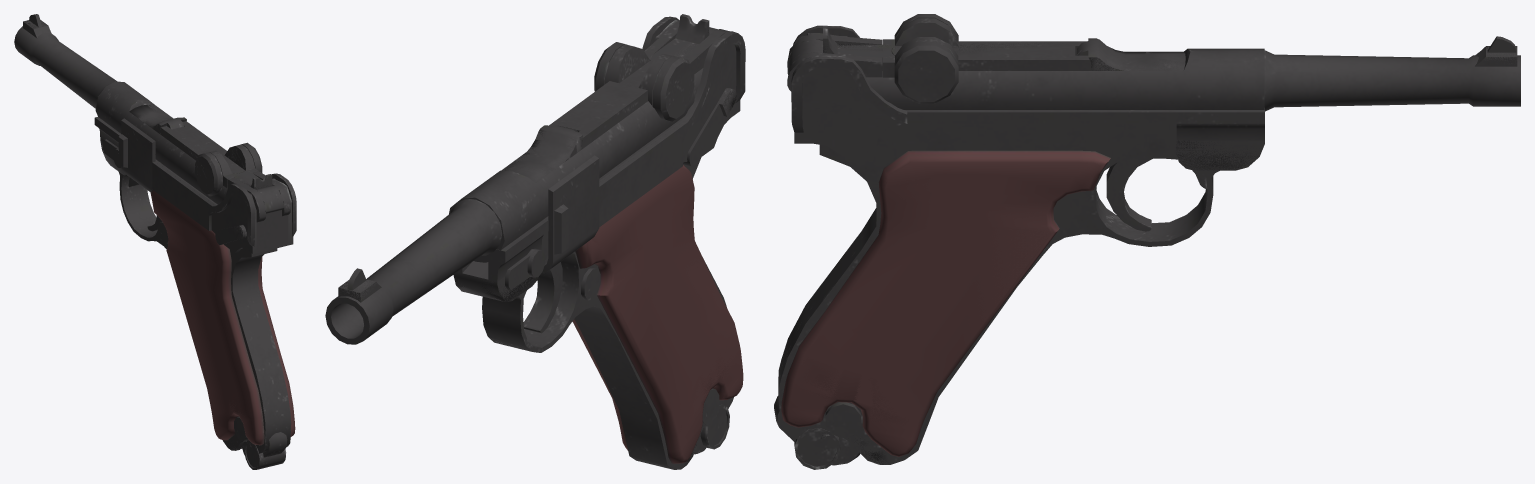
The model's file is pistol_r357.gltf.
3 views of the same model, side by side, from view 1: azimuth 30°, elevation 25°; view 2: azimuth 150°, elevation 25°; view 3: azimuth 270°, elevation 25° (orthographic). The views are drawn at different scales.
Visible parts, largest first — view 1: Body, LOD, Bolt, Magazine; view 2: Body, LOD, Bolt, Magazine; view 3: Body, LOD, Bolt, Magazine.
Boxes of the visible parts, box(x1,y1,x2,y2) form: Body: box(14, 14, 296, 453); LOD: box(15, 14, 296, 469); Bolt: box(138, 104, 284, 213); Magazine: box(242, 432, 287, 469); Body: box(325, 16, 745, 469); LOD: box(325, 14, 745, 469); Bolt: box(502, 14, 717, 176); Magazine: box(694, 404, 729, 454); Body: box(778, 25, 1520, 464); LOD: box(774, 15, 1520, 469); Bolt: box(787, 14, 1184, 103); Magazine: box(774, 401, 860, 469).
Bounding box in the file's own units: 0.0282 × 0.1523 × 0.2389.
Materials: 1 (1 with a texture image).
